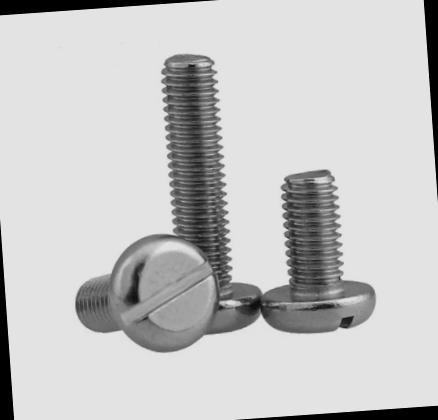screw: (110, 226, 218, 354)
